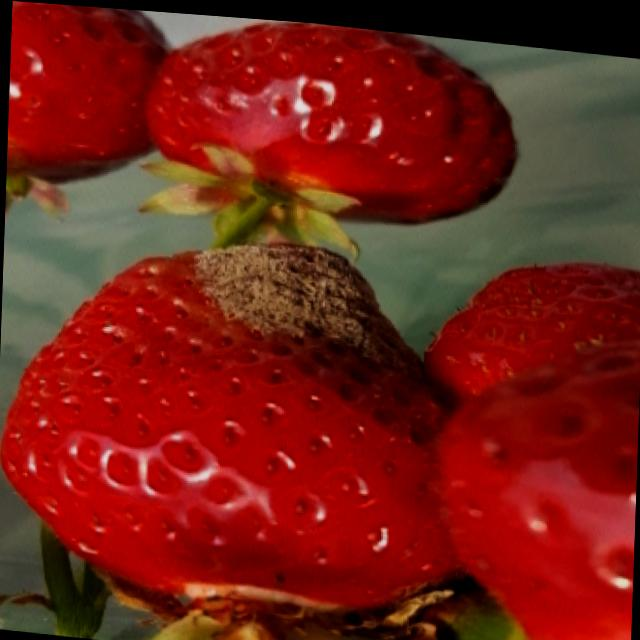Gray Mold: (174, 237, 424, 382)
